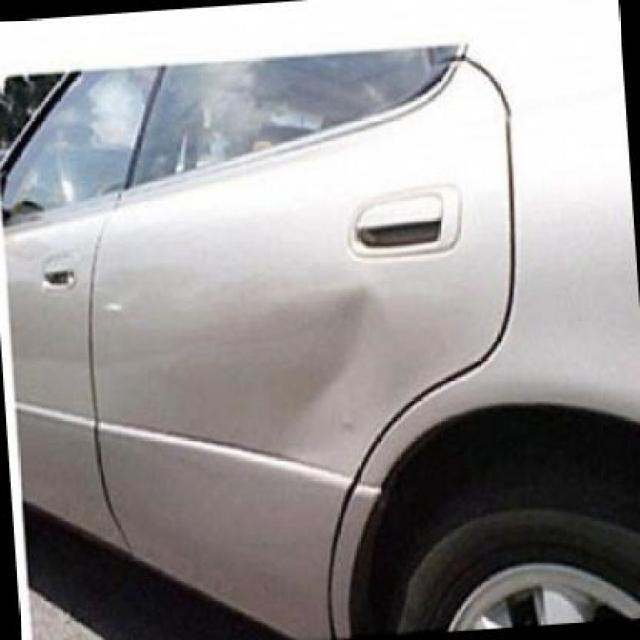dent: (255, 291, 375, 426)
